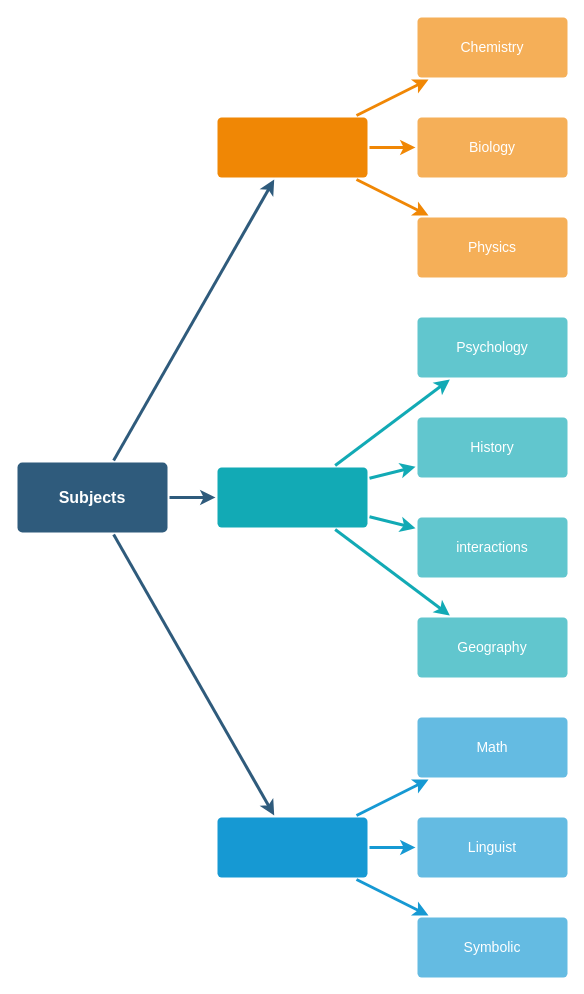
Some shapes in this 584 by 994 pixel diagram are drawn without their labels. Each missing label, with the box of its shape:
Language: (217, 817, 367, 877)
Nature: (217, 117, 367, 177)
Social: (217, 467, 367, 527)
